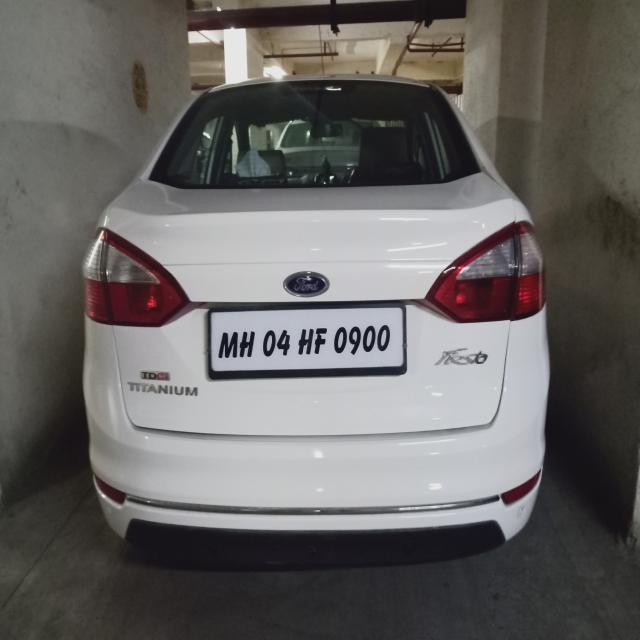Number-Plate: (216, 309, 404, 366)
